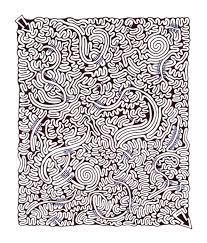maze: (16, 16, 192, 226)
